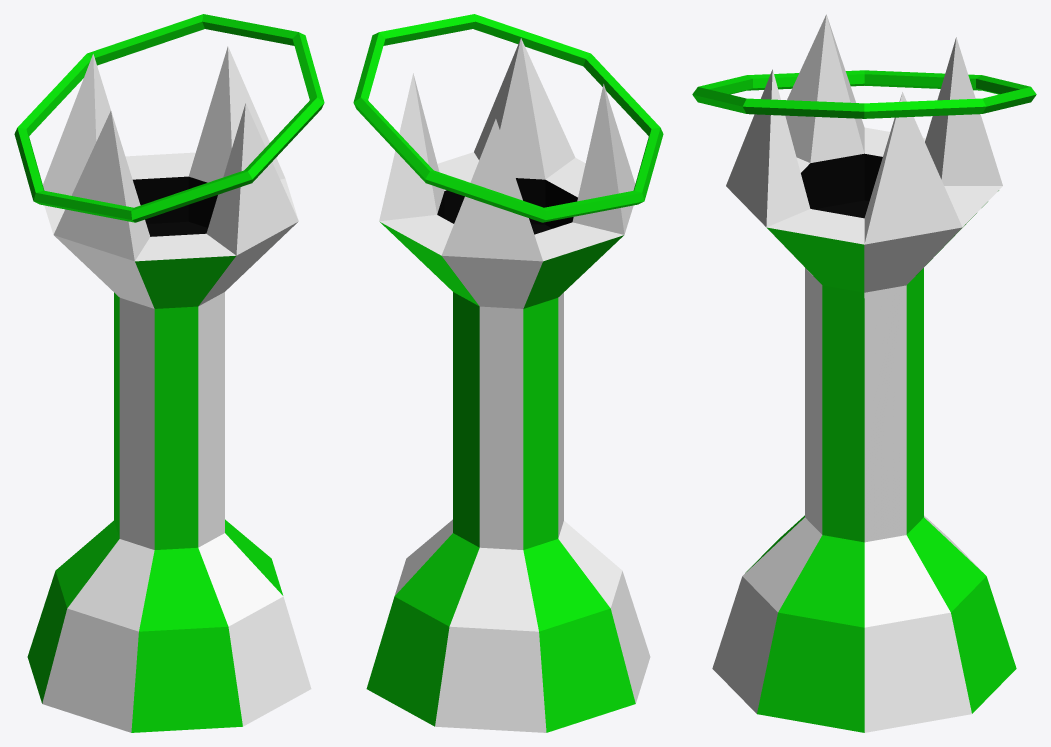
The model's file is tower4.fbx.
3 views of the same model, side by side, from view 1: azimuth 30°, elevation 25°; view 2: azimuth 150°, elevation 25°; view 3: azimuth 270°, elevation 25° (orthographic). The views are drawn at different scales.
Parts seen in each view (by area): view 1: Icosphere.006, Torus.001; view 2: Icosphere.006, Torus.001; view 3: Icosphere.006, Torus.001.
Part boxes in pixels (x1,y1,x2,y2): Icosphere.006: (27, 46, 311, 732); Torus.001: (14, 14, 324, 222); Icosphere.006: (366, 38, 650, 732); Torus.001: (353, 14, 663, 222); Icosphere.006: (712, 14, 1016, 732); Torus.001: (692, 70, 1036, 118).
Size of the model in its own units: 1.07 by 2.29 by 1.13.
